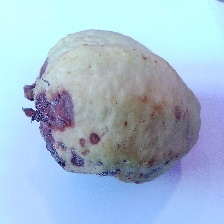guava: (31, 37, 170, 219)
